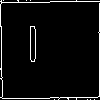I: (25, 25, 40, 73)
